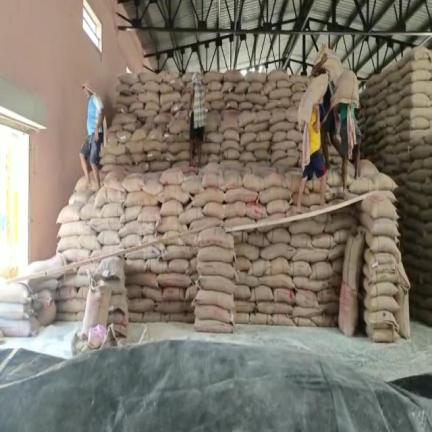Zone-Counting: (297, 78, 326, 211), (331, 70, 361, 192)
